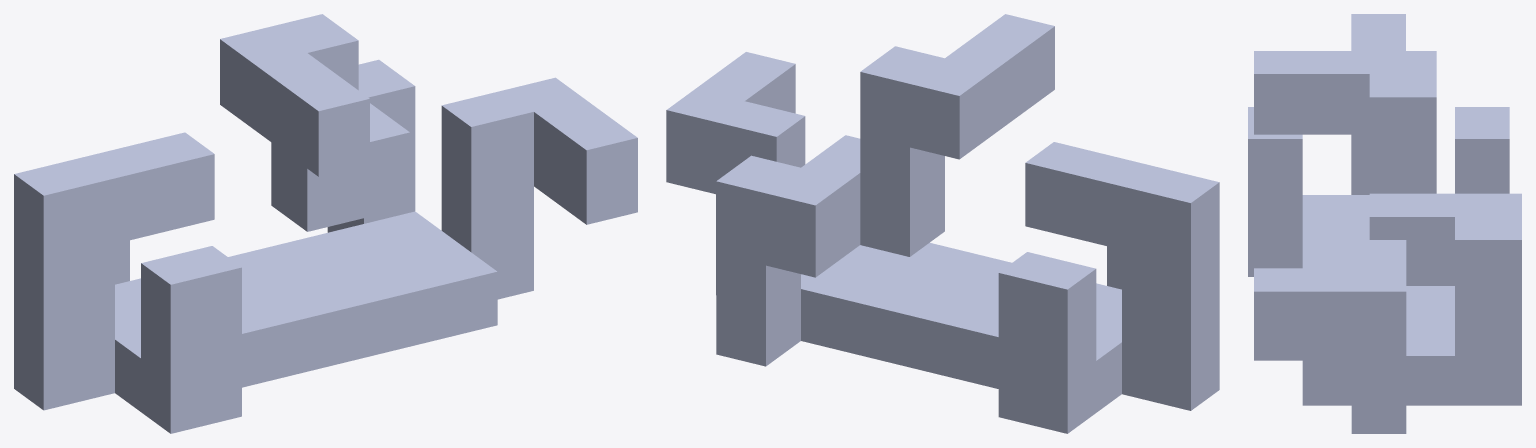
The picture shows the model from 3 angles, left to right: view 1: azimuth 30°, elevation 25°; view 2: azimuth 150°, elevation 25°; view 3: azimuth 270°, elevation 25°; orthographic projection. The views are drawn at different scales.
Parts seen in each view (by area): view 1: mesh_1_Long-3.003; view 2: mesh_1_Long-3.003; view 3: mesh_1_Long-3.003.
Boxes of the visible parts, x1=… form: mesh_1_Long-3.003: x1=14, y1=14, x2=637, y2=433; mesh_1_Long-3.003: x1=666, y1=14, x2=1219, y2=433; mesh_1_Long-3.003: x1=1248, y1=14, x2=1521, y2=433.
Bounding box in the file's own units: 0.19 × 0.095 × 0.09.
